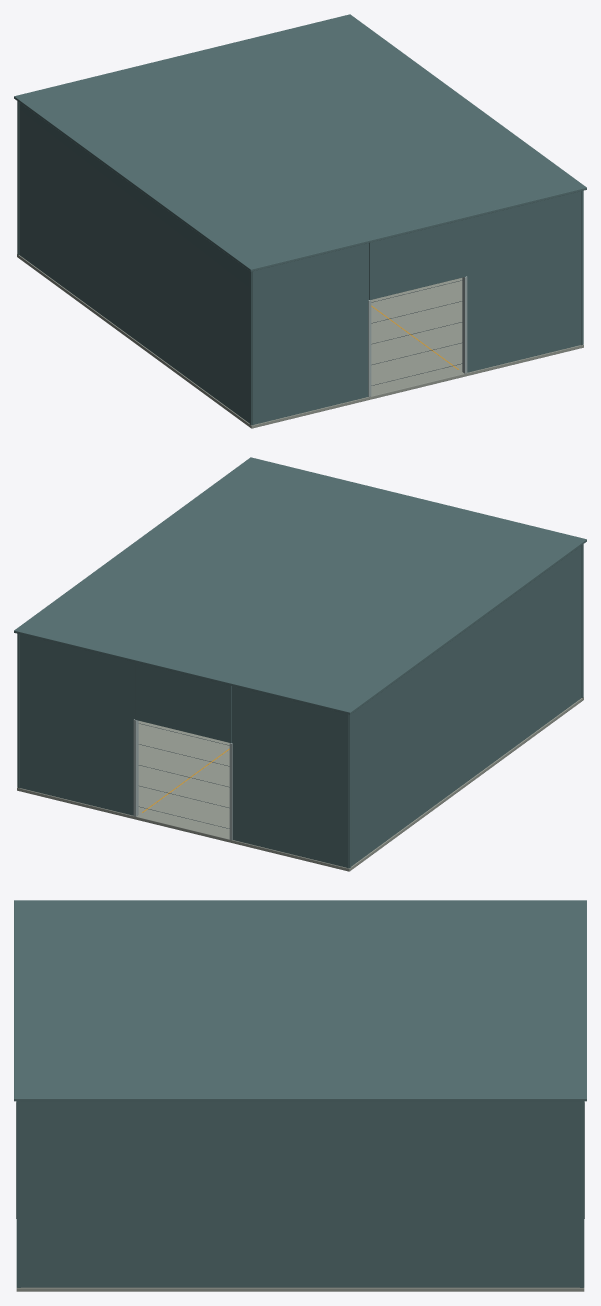
Rendered from hangar-slice.glb.
The picture shows the model from 3 angles, top to bottom: view 1: azimuth 30°, elevation 25°; view 2: azimuth 150°, elevation 25°; view 3: azimuth 270°, elevation 25°; orthographic projection. The views are drawn at different scales.
Visible parts, largest first — view 1: Mesh_Hangar_Root_teal, Floor, Mesh_Hangar_Root_alloy; view 2: Mesh_Hangar_Root_teal, Floor, Mesh_Hangar_Root_alloy; view 3: Mesh_Hangar_Root_teal, Floor.
Part boxes in pixels (left/top/right/bottom): Mesh_Hangar_Root_teal: left=14, top=14, right=586, bottom=425; Floor: left=17, top=254, right=583, bottom=428; Mesh_Hangar_Root_alloy: left=368, top=276, right=467, bottom=397; Mesh_Hangar_Root_teal: left=14, top=457, right=586, bottom=868; Floor: left=17, top=697, right=583, bottom=871; Mesh_Hangar_Root_alloy: left=133, top=719, right=232, bottom=840; Mesh_Hangar_Root_teal: left=14, top=900, right=586, bottom=1287; Floor: left=16, top=1287, right=584, bottom=1291.
Size of what is drawn, in the model's own units: 18.2 by 8.3 by 22.2.
